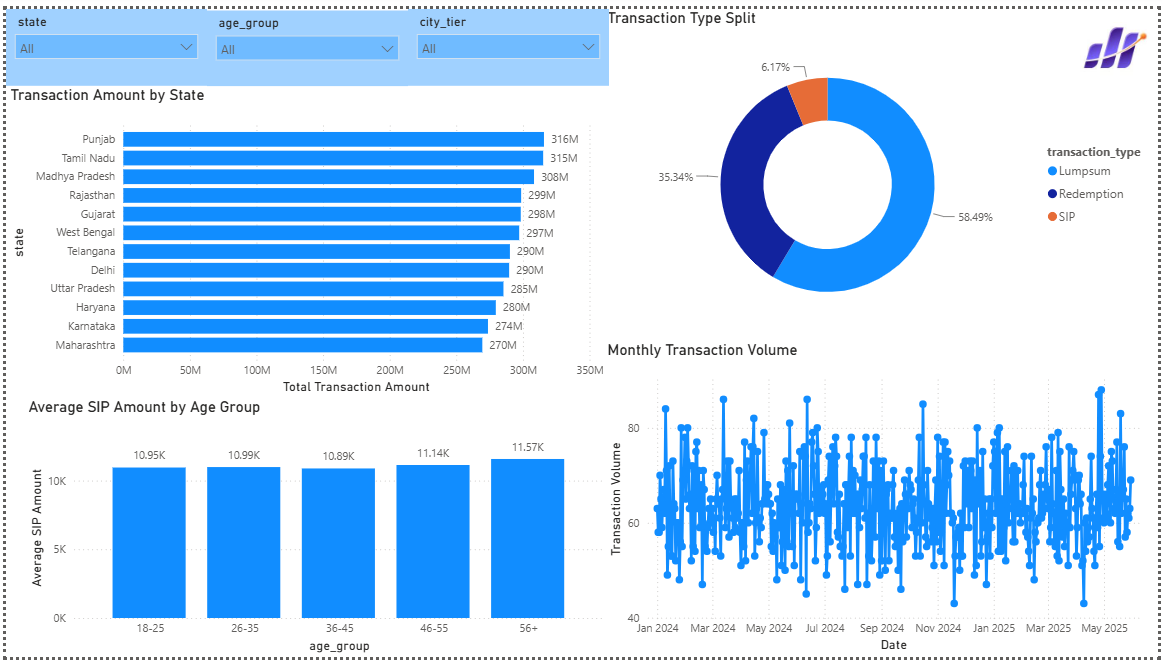

This screenshot's page, from the dashboard's own definition file:
{"tool":"powerbi","page":{"name":"Investor Analytics","canvas":[1280,720],"ordinal":2},"visuals":[{"type":"clusteredBarChart","title":"Transaction Amount by State","fields":{"Category":["08_investor_transactions.state"],"Y":["08_investor_transactions.Total Transaction Amount"]},"box":[0,84.2,669.1,347.1],"z":0},{"type":"donutChart","title":"Transaction Type Split","fields":{"Category":["08_investor_transactions.transaction_type"],"Y":["08_investor_transactions.Total Transaction Amount"]},"box":[663.1,0,617.4,360.4],"z":1000},{"type":"clusteredColumnChart","title":"Average SIP Amount by Age Group","fields":{"Category":["08_investor_transactions.age_group"],"Y":["08_investor_transactions.Average SIP Amount"]},"box":[19.2,431.3,649.9,288],"z":2000},{"type":"lineChart","title":"Monthly Transaction Volume","fields":{"Y":["08_investor_transactions.Transaction Volume"],"Category":["DateTable.Date.Variation.Date Hierarchy.Year"]},"box":[663,369,617,351],"z":3000},{"type":"slicer","fields":{"Values":["08_investor_transactions.state"]},"box":[0,0,223.3,86.7],"z":4000},{"type":"slicer","fields":{"Values":["08_investor_transactions.age_group"]},"box":[223,1.5,223,84.2],"z":5000},{"type":"slicer","fields":{"Values":["08_investor_transactions.city_tier"]},"box":[446,0,223,85.7],"z":6000},{"type":"image","box":[1185,0,95,86.7],"z":6001}]}

Visuals, with their boxes in screenshot pixels (x1, y1, x2, y2), scaled from the page's 1280x720 canvas onto the 1162x661 screenshot:
"Transaction Amount by State" clusteredBarChart: 0, 77, 607, 396
"Transaction Type Split" donutChart: 602, 0, 1161, 331
"Average SIP Amount by Age Group" clusteredColumnChart: 17, 396, 607, 660
"Monthly Transaction Volume" lineChart: 602, 339, 1161, 660
slicer - 08_investor_transactions.state: 0, 0, 203, 80
slicer - 08_investor_transactions.age_group: 202, 1, 405, 79
slicer - 08_investor_transactions.city_tier: 405, 0, 607, 79
image: 1076, 0, 1161, 80
